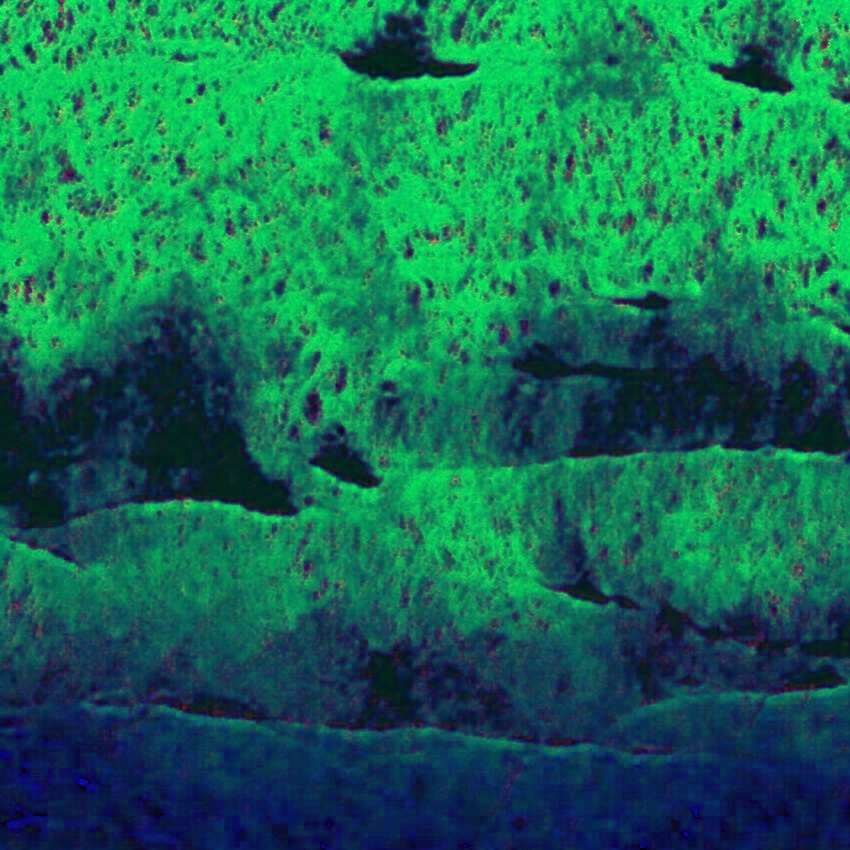rip_current: (203, 243, 563, 645)
